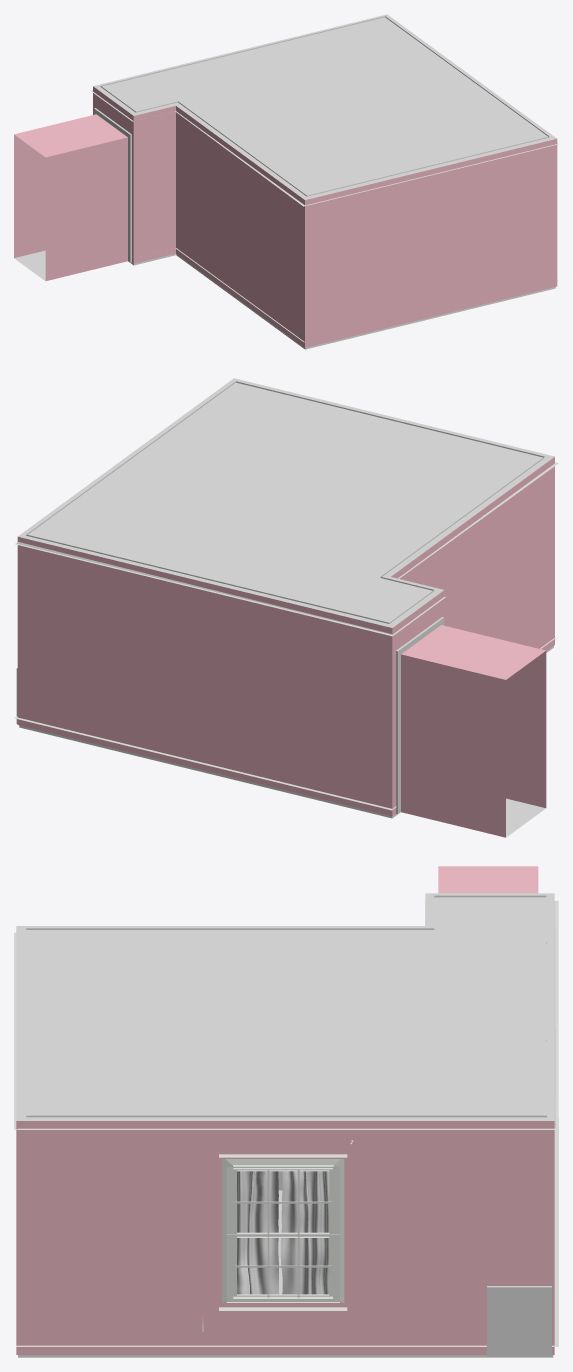
Rendered from TempRoom.fbx.
3 views of the same model, one above another, from view 1: azimuth 30°, elevation 25°; view 2: azimuth 150°, elevation 25°; view 3: azimuth 270°, elevation 25° (orthographic). The views are drawn at different scales.
Parts seen in each view (by area): view 1: Room, CeilingTrim, FloorTrim, DoorTrim; view 2: Room, CeilingTrim, FloorTrim, DoorTrim; view 3: Room, Curtain, CeilingTrim, Desk, WindowTrim, FloorTrim, WindowFrameTop, WindowFrameBottom.
Part boxes in pixels (x1=…): Room: x1=14, y1=14, x2=557, y2=347; CeilingTrim: x1=90, y1=16, x2=558, y2=206; FloorTrim: x1=131, y1=248, x2=557, y2=349; DoorTrim: x1=94, y1=108, x2=131, y2=262; Room: x1=17, y1=378, x2=554, y2=837; CeilingTrim: x1=15, y1=381, x2=558, y2=636; FloorTrim: x1=14, y1=637, x2=555, y2=818; DoorTrim: x1=396, y1=617, x2=444, y2=814; Room: x1=16, y1=866, x2=554, y2=1354; Curtain: x1=202, y1=1171, x2=329, y2=1332; CeilingTrim: x1=14, y1=895, x2=558, y2=1129; Desk: x1=487, y1=1286, x2=551, y2=1356; WindowTrim: x1=219, y1=1154, x2=347, y2=1310; FloorTrim: x1=16, y1=1118, x2=558, y2=1357; WindowFrameTop: x1=226, y1=1166, x2=339, y2=1236; WindowFrameBottom: x1=226, y1=1234, x2=339, y2=1302.
Size of the model in its own units: 650 by 245 by 506.
